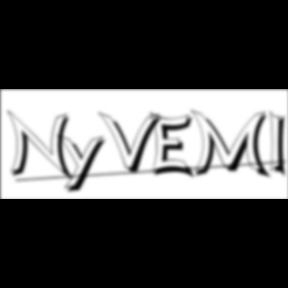E: (150, 110, 198, 182)
M: (190, 108, 274, 181)
N: (7, 109, 77, 183)
V: (98, 110, 166, 176)
y: (57, 132, 111, 196)
